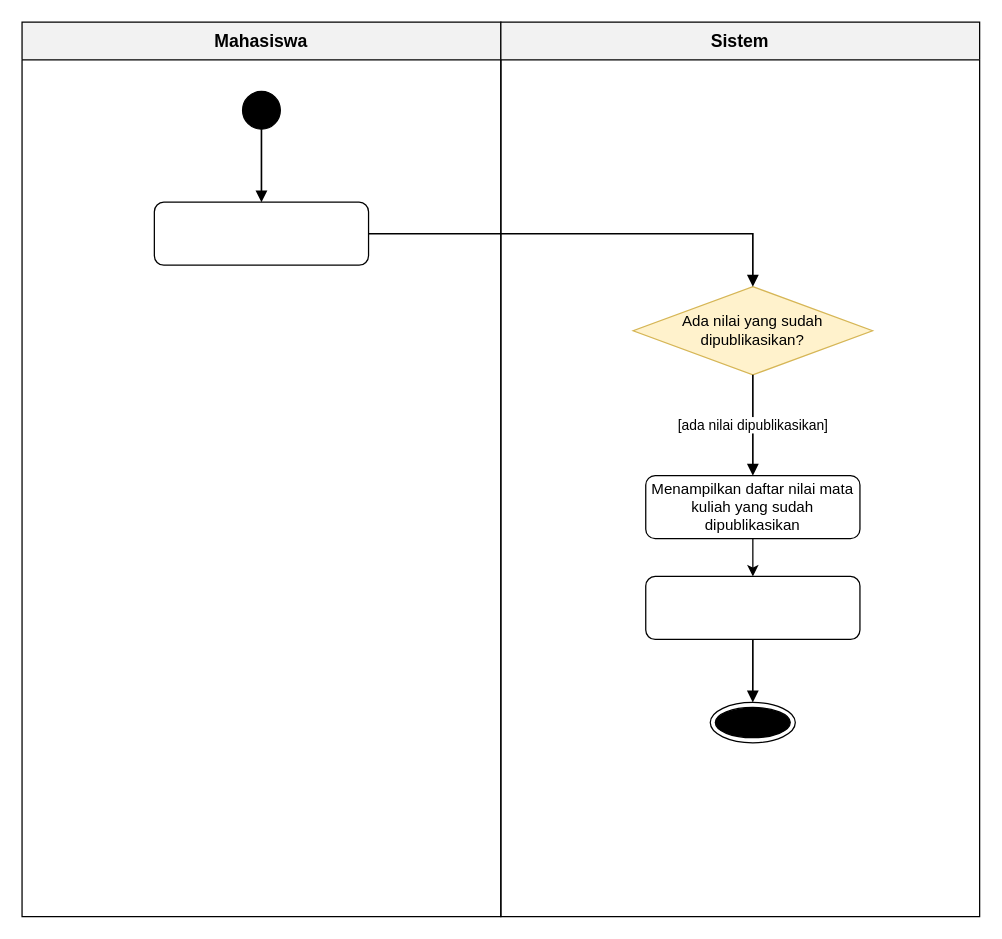
Image size: 1002x939. Some labels were removed from this diagram. The shapes that lost their labels are listed below. From the top down, each one's box as (x1, y1, x2, y2) in pixels, then its label:
(153, 201, 369, 265): Memilih menu KHS dan memilih semester
(644, 575, 860, 639): Menampilkan KHS kosong dengan keterangan nilai belum dipublikasikan
